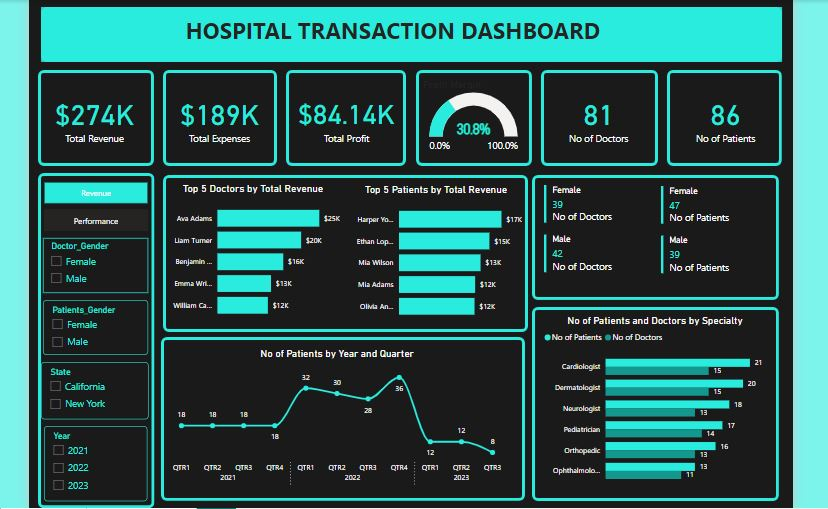

The page's visual inventory and layout, read from the dashboard file:
{"tool":"powerbi","page":{"name":"Performance","canvas":[1280,850],"ordinal":1},"visuals":[{"type":"shape","box":[20.1,11.7,1239.9,92],"z":0},{"type":"shape","box":[15.1,117.1,194.1,160.6],"z":1000},{"type":"shape","box":[856.4,117.1,195.8,160.6],"z":2000},{"type":"shape","box":[224.5,117.1,190.7,160.6],"z":3000},{"type":"shape","box":[430.7,117.1,200.8,160.6],"z":4000},{"type":"shape","box":[646.9,117.1,194.1,160.6],"z":5000},{"type":"shape","box":[1067.5,117.1,192.4,160.6],"z":6000},{"type":"shape","box":[15.1,288.9,194.9,561],"z":7000},{"type":"shape","box":[224.2,292.8,610.7,262.7],"z":8000},{"type":"shape","box":[841.6,513.7,413.3,324.6],"z":9000},{"type":"shape","box":[841.6,292.8,413.3,209.2],"z":10000},{"type":"shape","box":[220.9,563.9,609.1,274.4],"z":11000},{"type":"card","fields":{"Values":["Calculated Measures.Total Revenue"]},"box":[20.1,130.5,179,133.9],"z":12000},{"type":"card","fields":{"Values":["Calculated Measures.Total Expenses"]},"box":[229.2,130.5,179,133.9],"z":13000},{"type":"card","fields":{"Values":["Calculated Measures.Total Profit"]},"box":[441.7,130.5,179,133.9],"z":14000},{"type":"gauge","fields":{"Y":["Calculated Measures.Profit Margin"]},"box":[654.2,130.5,179,133.9],"z":15000},{"type":"card","fields":{"Values":["Calculated Measures.No of Doctors"]},"box":[863.4,130.5,179,133.9],"z":16000},{"type":"card","fields":{"Values":["Calculated Measures.No of Patients"]},"box":[1075.9,130.5,179,133.9],"z":17000},{"type":"lineChart","fields":{"Category":["Calendar Table.Date.Variation.Date Hierarchy.Year","Calendar Table.Quarter"],"Y":["Hospital_Fact.PatientID"]},"box":[229.2,580.6,572.2,240.9],"z":18000},{"type":"clusteredBarChart","title":"No of Patients and Doctors by Specialty","fields":{"Y":["Calculated Measures.No of Distinct Patients","Calculated Measures.No of Distinct Doctors"],"Category":["Doctor_Dim.Specialty"]},"box":[856.7,525.4,381.5,296.2],"z":19000},{"type":"clusteredBarChart","title":"Top 5 Doctors by Total Revenue","fields":{"Y":["Calculated Measures.Total Revenue"],"Category":["Doctor_Dim.Doctors Name"]},"box":[224.2,304.5,301.2,240.9],"z":20000},{"type":"slicer","fields":{"Values":["Doctor_Dim.Doctor_Gender"]},"box":[23.5,397.7,176.4,92.4],"z":21000},{"type":"slicer","fields":{"Values":["Patient_Dim.Patients_Gender"]},"box":[23.5,501.4,176.4,92.4],"z":22000},{"type":"slicer","fields":{"Values":["Location_Dim.State"]},"box":[20.2,605.1,179.7,95.7],"z":23000},{"type":"slicer","fields":{"Values":["Calendar Table.Year"]},"box":[25.2,712.2,173,126],"z":24000},{"type":"clusteredBarChart","title":"Top 5 Patients by Total Revenue","fields":{"Y":["Calculated Measures.Total Revenue"],"Category":["Patient_Dim.Patients Name"]},"box":[532.1,306.2,297.8,240.9],"z":25000},{"type":"multiRowCard","fields":{"Values":["Doctor_Dim.Doctor_Gender","Doctor_Dim.Doctor_Gender"]},"box":[856.7,304.5,177.4,185.7],"z":26000},{"type":"multiRowCard","fields":{"Values":["Patient_Dim.Patients_Gender","Patient_Dim.Patients_Gender"]},"box":[1052.5,306.2,197.4,184.1],"z":27000},{"type":"textbox","box":[117.1,20.1,983.9,75.3],"z":28000},{"type":"pageNavigator","box":[25.2,304,174.7,82.3],"z":28001}]}

Visuals, with their boxes on the page's 1280x850 design canvas (x1, y1, x2, y2). These are canvas units, not pixel positions in the 828x509 screenshot, which may show the page scaled, cropped or inside an application window:
shape: x1=20, y1=12, x2=1260, y2=104
shape: x1=15, y1=117, x2=209, y2=278
shape: x1=856, y1=117, x2=1052, y2=278
shape: x1=224, y1=117, x2=415, y2=278
shape: x1=431, y1=117, x2=632, y2=278
shape: x1=647, y1=117, x2=841, y2=278
shape: x1=1068, y1=117, x2=1260, y2=278
shape: x1=15, y1=289, x2=210, y2=850
shape: x1=224, y1=293, x2=835, y2=556
shape: x1=842, y1=514, x2=1255, y2=838
shape: x1=842, y1=293, x2=1255, y2=502
shape: x1=221, y1=564, x2=830, y2=838
card - Calculated Measures.Total Revenue: x1=20, y1=130, x2=199, y2=264
card - Calculated Measures.Total Expenses: x1=229, y1=130, x2=408, y2=264
card - Calculated Measures.Total Profit: x1=442, y1=130, x2=621, y2=264
gauge - Calculated Measures.Profit Margin: x1=654, y1=130, x2=833, y2=264
card - Calculated Measures.No of Doctors: x1=863, y1=130, x2=1042, y2=264
card - Calculated Measures.No of Patients: x1=1076, y1=130, x2=1255, y2=264
lineChart - Calendar Table.Date.Variation.Date Hierarchy.Year x Calendar Table.Quarter: x1=229, y1=581, x2=801, y2=822
"No of Patients and Doctors by Specialty" clusteredBarChart: x1=857, y1=525, x2=1238, y2=822
"Top 5 Doctors by Total Revenue" clusteredBarChart: x1=224, y1=304, x2=525, y2=545
slicer - Doctor_Dim.Doctor_Gender: x1=24, y1=398, x2=200, y2=490
slicer - Patient_Dim.Patients_Gender: x1=24, y1=501, x2=200, y2=594
slicer - Location_Dim.State: x1=20, y1=605, x2=200, y2=701
slicer - Calendar Table.Year: x1=25, y1=712, x2=198, y2=838
"Top 5 Patients by Total Revenue" clusteredBarChart: x1=532, y1=306, x2=830, y2=547
multiRowCard - Doctor_Dim.Doctor_Gender x Doctor_Dim.Doctor_Gender: x1=857, y1=304, x2=1034, y2=490
multiRowCard - Patient_Dim.Patients_Gender x Patient_Dim.Patients_Gender: x1=1052, y1=306, x2=1250, y2=490
textbox: x1=117, y1=20, x2=1101, y2=95
pageNavigator: x1=25, y1=304, x2=200, y2=386
